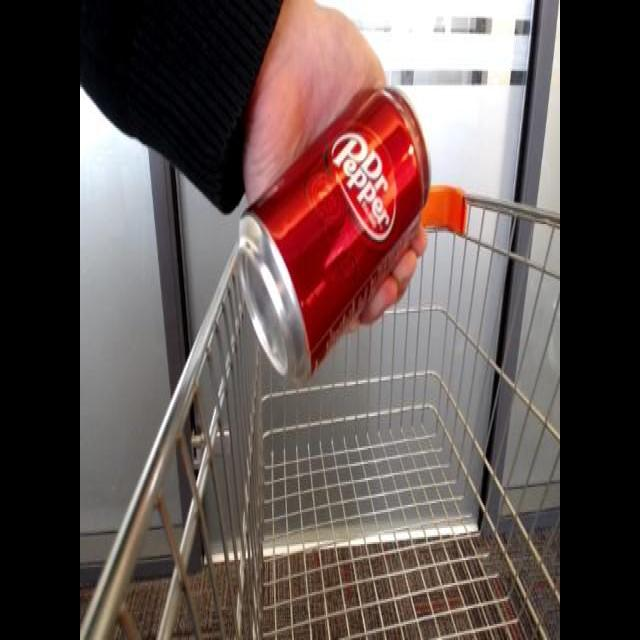Dr Pepper: (236, 75, 439, 388)
